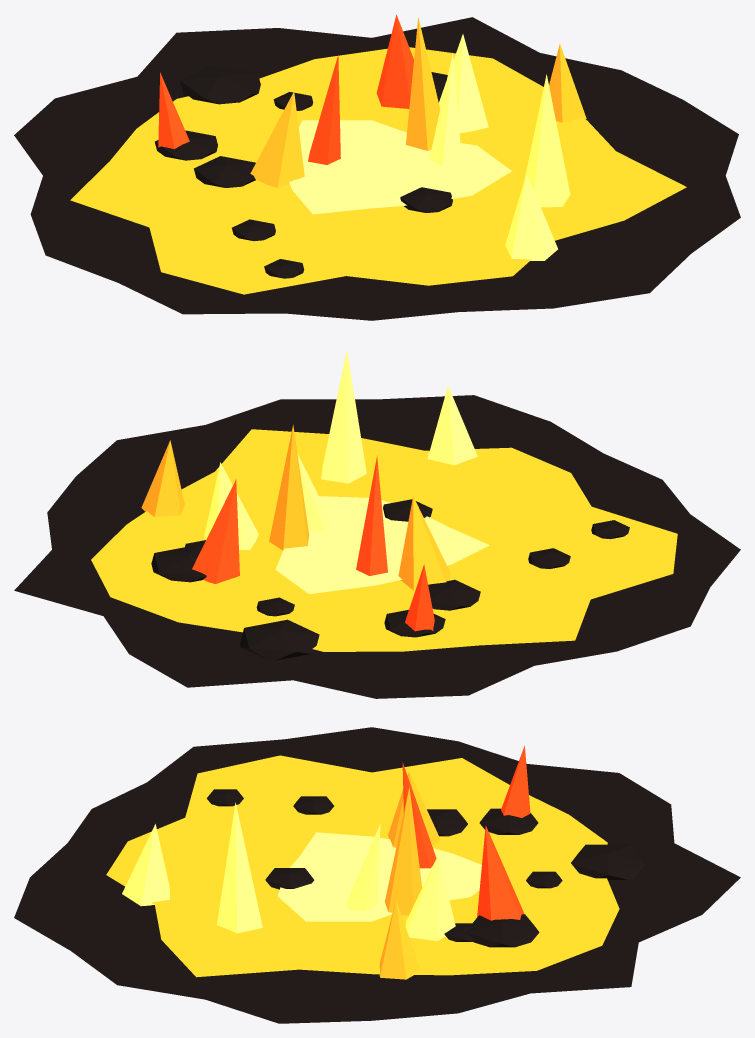
The model's file is fx_lava_pool.glb.
3 views of the same model, one above another, from view 1: azimuth 30°, elevation 25°; view 2: azimuth 150°, elevation 25°; view 3: azimuth 270°, elevation 25° (orthographic). The views are drawn at different scales.
Parts seen in each view (by area): view 1: Pool_Crust, Pool_Lava, Pool_Hot, FlameTongue_0, FlameTongue_4, FlameTongue_7, FlameTongue_3, CrustIsland_4, FlameTongue_8, FlameTongue_9, FlameTongue_6, FlameTongue_2 (+7 smaller); view 2: Pool_Crust, Pool_Lava, Pool_Hot, FlameTongue_0, FlameTongue_7, FlameTongue_8, FlameTongue_4, CrustIsland_4, FlameTongue_3, FlameTongue_2, FlameTongue_1, FlameTongue_9 (+8 smaller); view 3: Pool_Crust, Pool_Lava, Pool_Hot, FlameTongue_0, FlameTongue_7, FlameTongue_9, FlameTongue_8, FlameTongue_3, CrustIsland_4, FlameTongue_1, CrustIsland_5, FlameTongue_6 (+9 smaller).
Part boxes in pixels (<box>): Pool_Crust: <box>14,17,740,320</box>; Pool_Lava: <box>70,47,686,294</box>; Pool_Hot: <box>289,120,511,214</box>; FlameTongue_0: <box>524,74,570,207</box>; FlameTongue_4: <box>250,91,304,187</box>; FlameTongue_7: <box>406,17,440,150</box>; FlameTongue_3: <box>505,173,557,260</box>; CrustIsland_4: <box>179,64,260,104</box>; FlameTongue_8: <box>376,14,413,108</box>; FlameTongue_9: <box>439,34,488,133</box>; FlameTongue_6: <box>429,53,461,165</box>; FlameTongue_2: <box>308,55,340,164</box>; Pool_Crust: <box>14,395,740,698</box>; Pool_Lava: <box>91,429,677,651</box>; Pool_Hot: <box>275,496,489,594</box>; FlameTongue_0: <box>321,350,366,483</box>; FlameTongue_7: <box>269,424,309,550</box>; FlameTongue_8: <box>192,479,239,583</box>; FlameTongue_4: <box>398,496,450,590</box>; CrustIsland_4: <box>239,619,319,660</box>; FlameTongue_3: <box>427,385,477,465</box>; FlameTongue_2: <box>356,455,387,575</box>; FlameTongue_1: <box>141,440,184,517</box>; FlameTongue_9: <box>204,462,258,549</box>; Pool_Crust: <box>14,727,740,1023</box>; Pool_Lava: <box>106,755,619,977</box>; Pool_Hot: <box>277,832,481,921</box>; FlameTongue_0: <box>217,802,262,933</box>; FlameTongue_7: <box>385,787,422,915</box>; FlameTongue_9: <box>405,855,455,941</box>; FlameTongue_8: <box>477,825,524,920</box>; FlameTongue_3: <box>122,824,169,906</box>; CrustIsland_4: <box>571,844,646,879</box>; FlameTongue_1: <box>379,900,420,979</box>; CrustIsland_5: <box>466,914,539,947</box>; FlameTongue_6: <box>346,824,380,911</box>.
Bounding box in the file's own units: 2.05 × 0.419 × 2.13.
